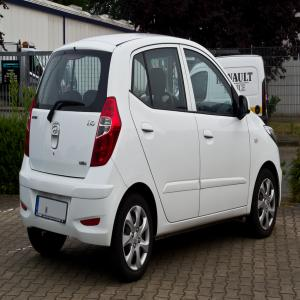Vehicle-registration-plate: (36, 195, 69, 224)
